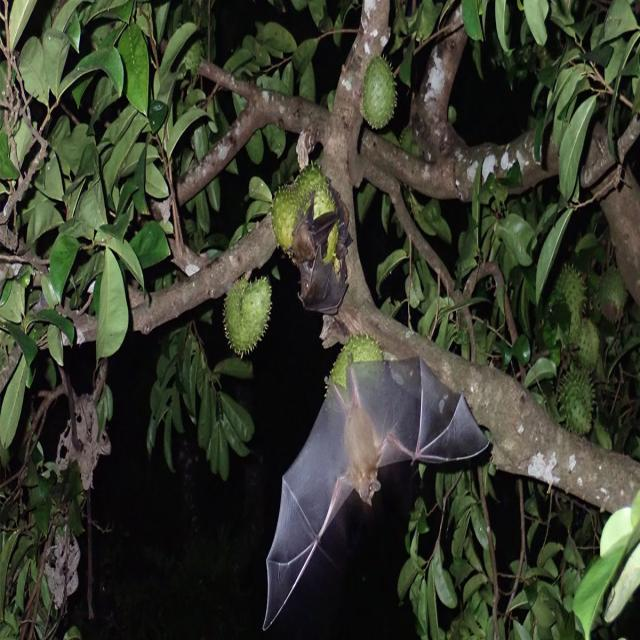Bat: (266, 361, 498, 624)
